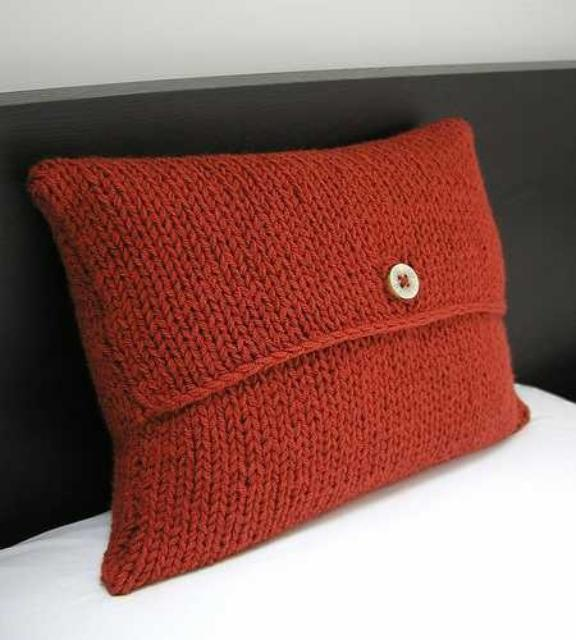pillow: (25, 116, 531, 596)
